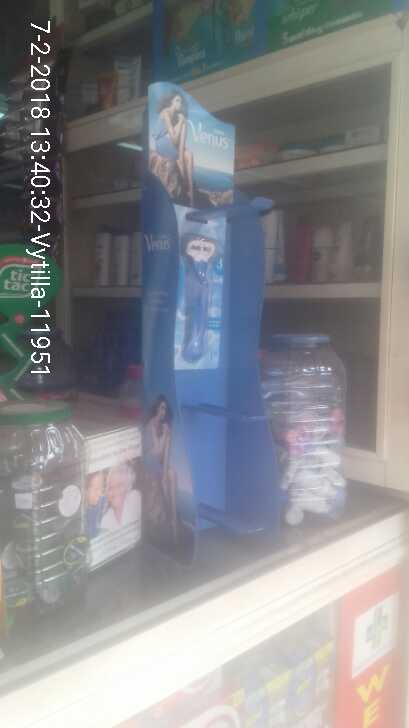venus: (163, 203, 233, 379)
